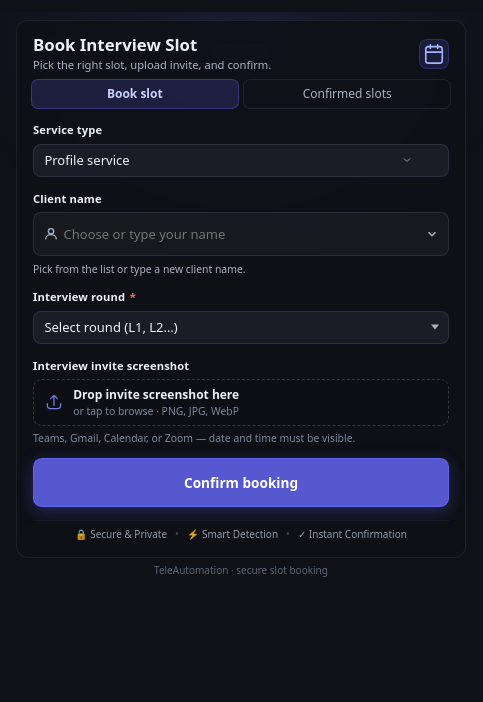
Test: an empty form reports the first field, not the browser's choice › reaches the interview round only after name, phone and technology
Click the button "Profile service" at (87,160), box [33,144,449,177]
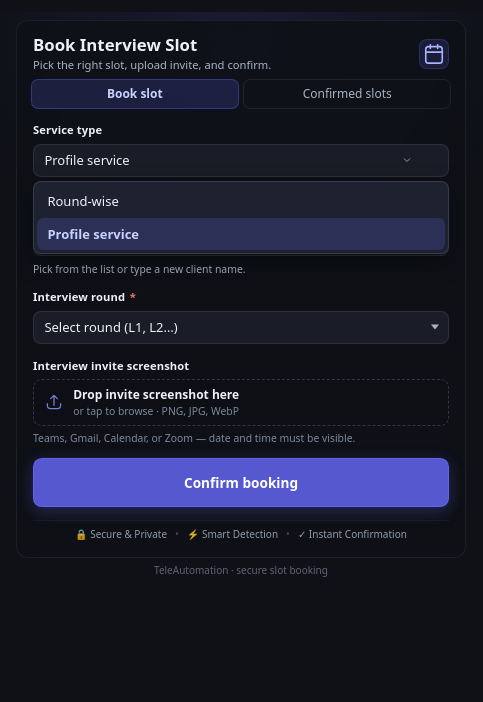
Click the list item "Round-wise" at (83,201), box [47,192,119,210]
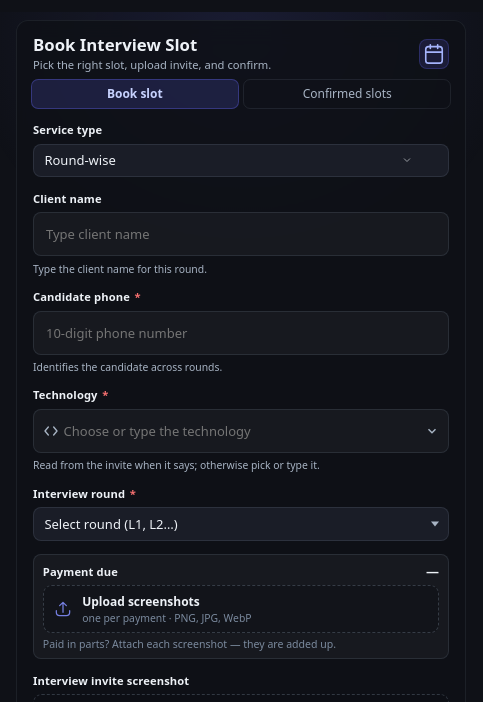
Type "Code Trust" into the field with placeholder "Type client name" at (241,234), box [33,212,449,256]
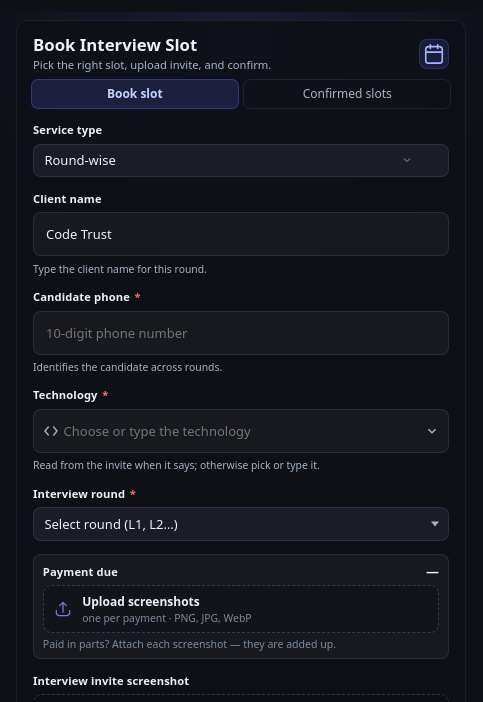
Type "1234567890" into the field labelled "Candidate phone * Identifies the candidate across rounds." at (241,332), box [33,310,449,354]
(page scrolled)
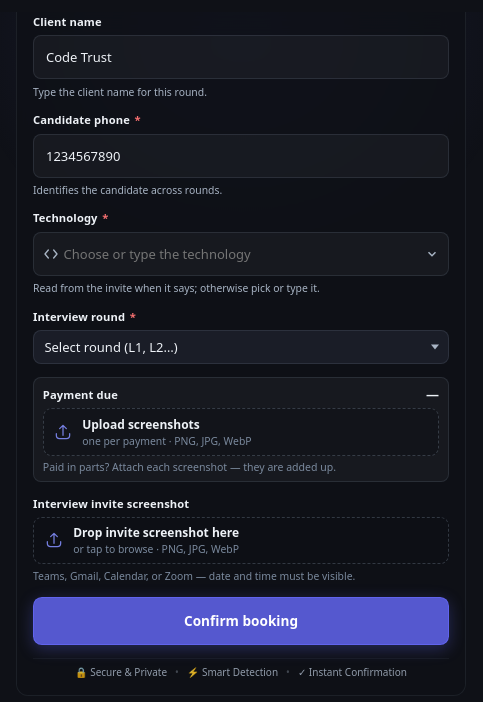
Click the button "Confirm booking" at (241,621), box [33,597,449,645]
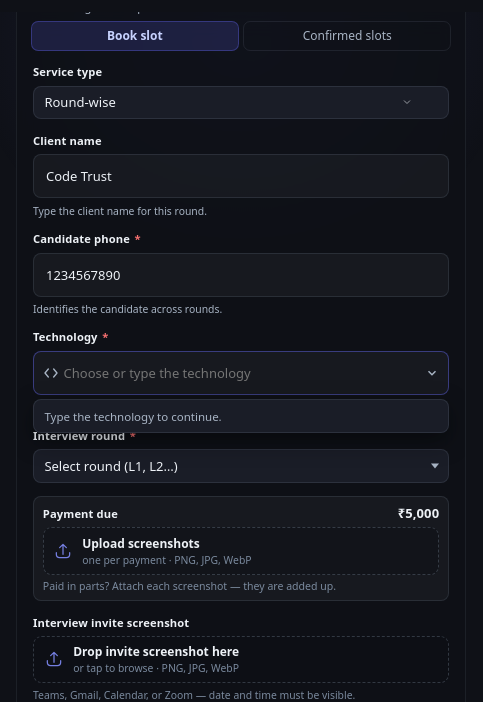
Expected: the text "Choose the technology for this interview." is shown, [33,400,232,414]
